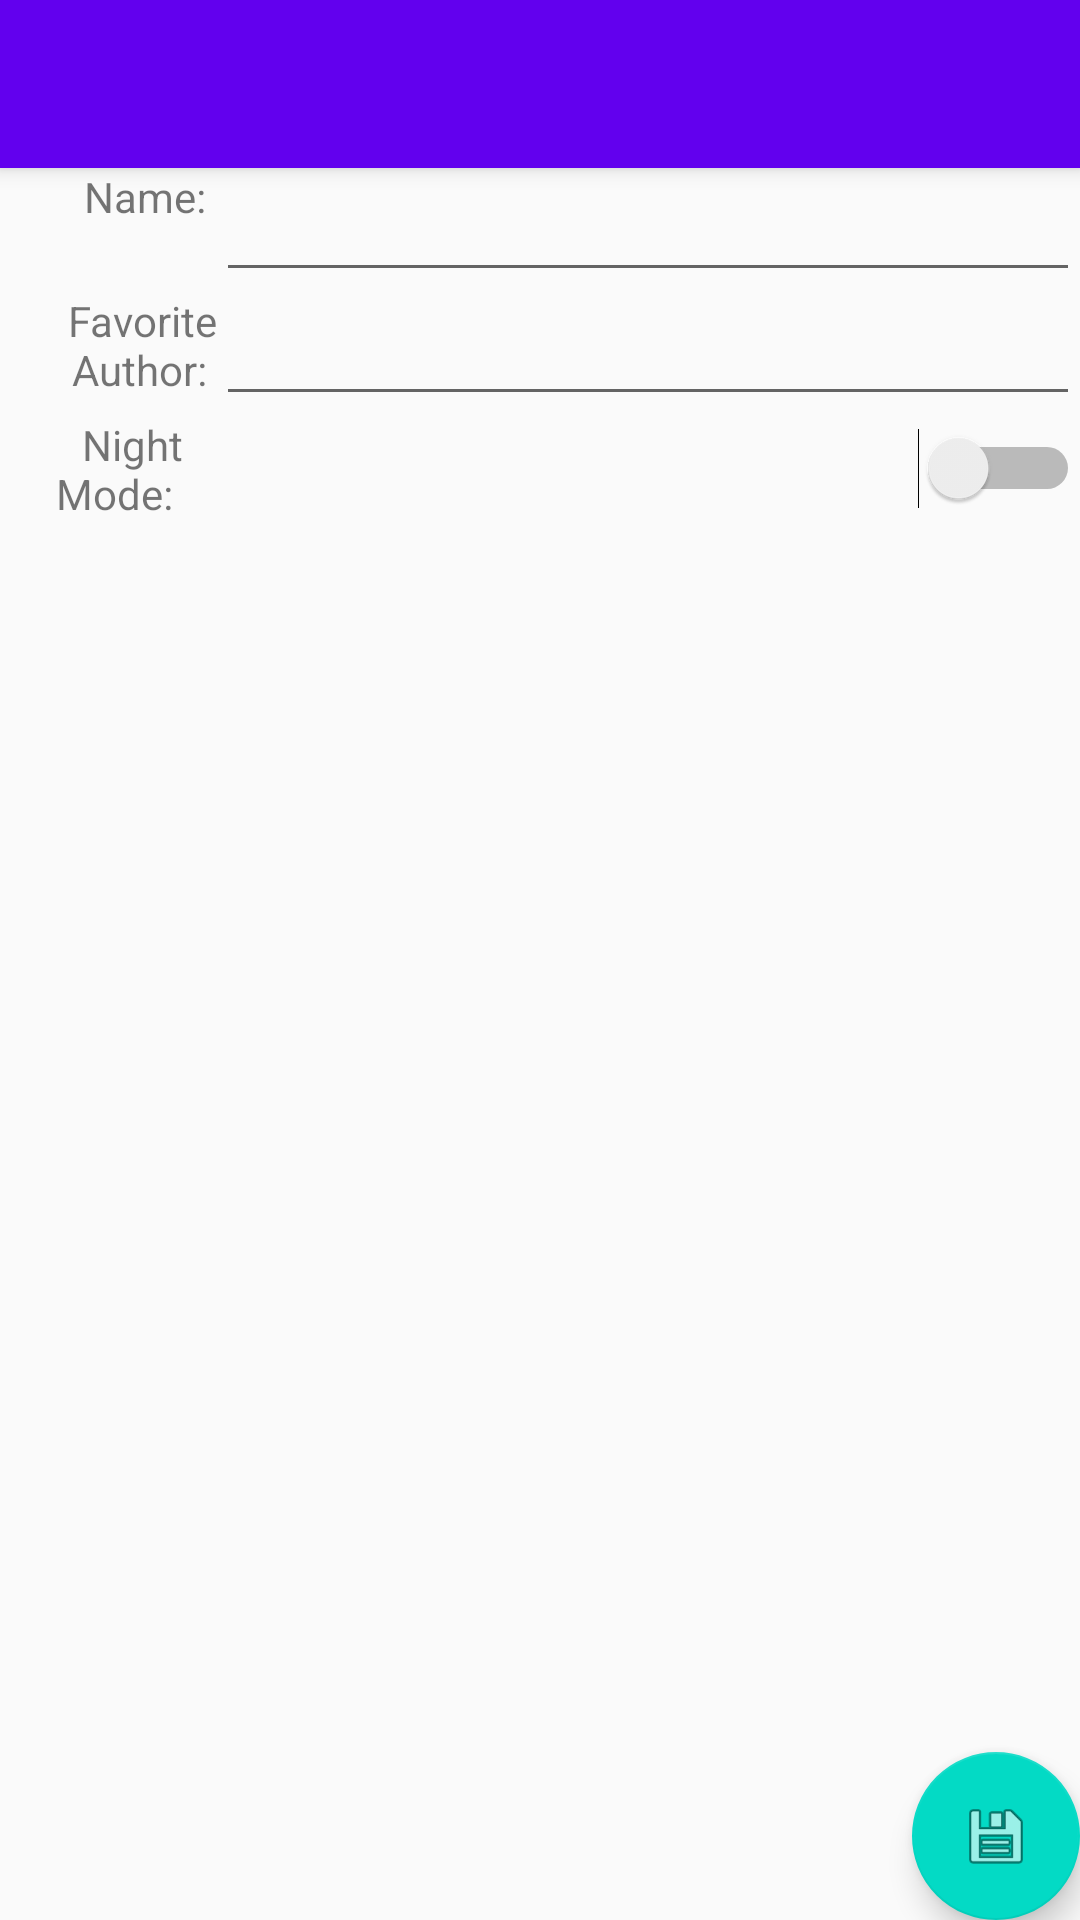

Where icons sit on this 1080x1920 app screen, as rect(x1, y1, x2, y2):
save: rect(912, 1752, 1080, 1920)
